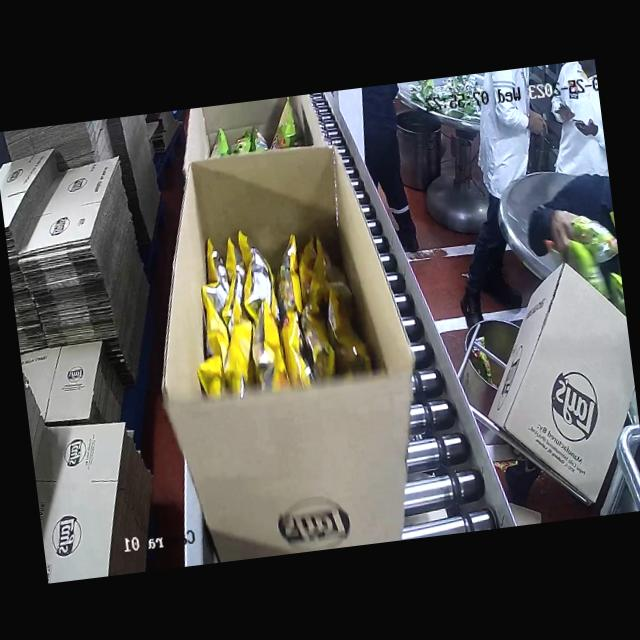salted: (178, 213, 376, 401)
yogurt: (190, 124, 280, 158)
